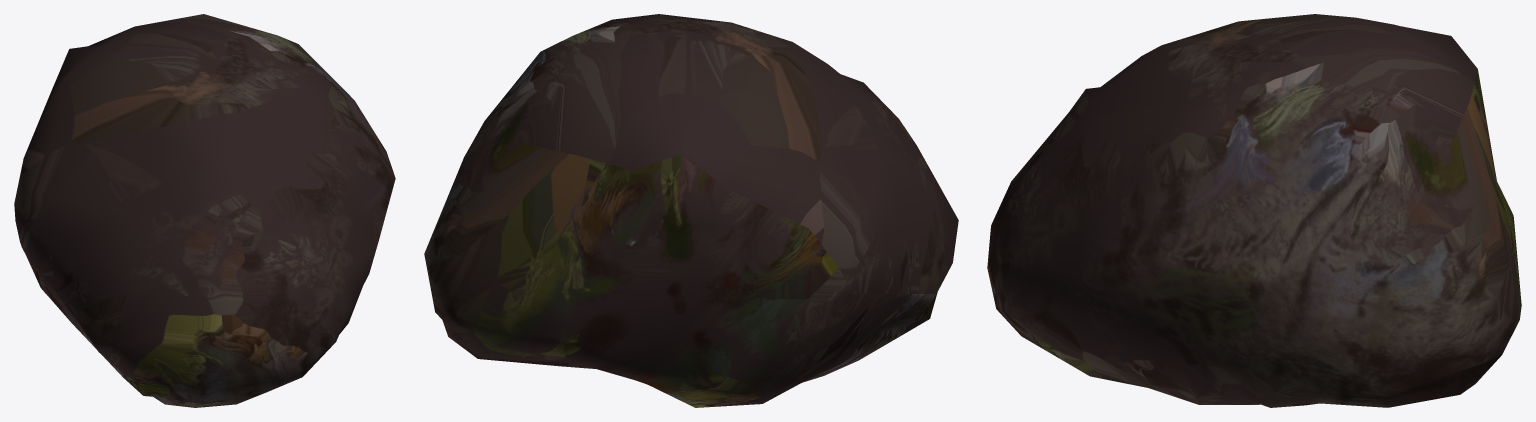
File: rock_small.fbx
3 views of the same model, side by side, from view 1: azimuth 30°, elevation 25°; view 2: azimuth 150°, elevation 25°; view 3: azimuth 270°, elevation 25° (orthographic). The views are drawn at different scales.
Visible parts, largest first — view 1: Group49482; view 2: Group49482; view 3: Group49482.
Boxes of the visible parts, box(x1,y1,x2,y2) form: Group49482: box(14, 14, 395, 407); Group49482: box(424, 14, 958, 407); Group49482: box(987, 14, 1521, 407).
Bounding box in the file's own units: 58.66 × 49.11 × 65.6.
